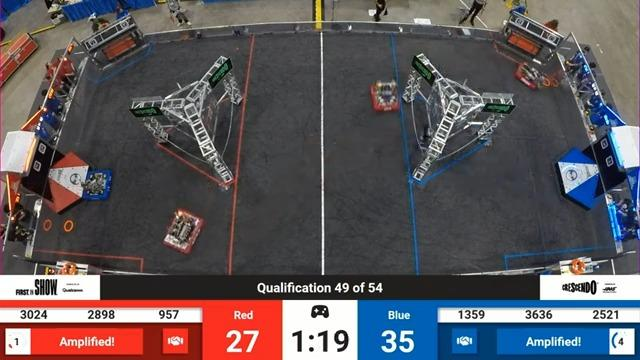robot: (159, 207, 207, 259), (72, 162, 120, 205), (363, 76, 403, 115), (409, 121, 454, 153), (513, 59, 552, 94)
